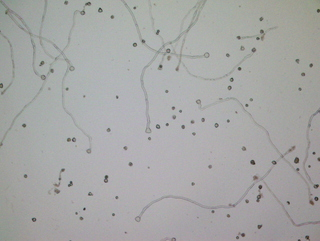germinated: (194, 94, 208, 112), (63, 58, 77, 73), (142, 119, 153, 135), (195, 50, 211, 61), (134, 208, 144, 223), (84, 139, 93, 155), (248, 45, 258, 59), (34, 69, 46, 80), (155, 58, 166, 70), (235, 32, 248, 42), (308, 176, 318, 189), (57, 166, 67, 178), (73, 8, 86, 17), (162, 45, 171, 56)
nongerminated: (129, 39, 140, 50), (247, 157, 258, 167), (239, 142, 249, 153), (255, 14, 266, 24), (292, 155, 303, 165), (205, 162, 216, 172), (246, 92, 256, 102), (270, 158, 280, 168), (188, 117, 198, 127), (126, 159, 136, 169), (104, 125, 114, 135), (292, 55, 303, 64), (108, 11, 119, 20), (225, 82, 235, 91), (211, 120, 221, 129), (251, 173, 260, 183), (168, 102, 177, 112), (153, 122, 162, 132), (189, 179, 198, 189), (69, 135, 79, 144), (255, 222, 265, 231), (28, 214, 38, 223), (255, 183, 265, 192), (298, 69, 307, 78), (295, 85, 304, 94), (226, 75, 235, 84), (235, 64, 244, 73), (224, 117, 233, 126), (162, 87, 171, 96), (96, 5, 105, 14), (284, 198, 293, 207), (80, 205, 89, 214), (224, 210, 233, 219), (76, 214, 85, 223), (178, 122, 188, 130), (242, 101, 251, 109), (223, 51, 232, 59), (238, 44, 246, 53), (170, 113, 179, 121), (164, 119, 172, 128), (121, 143, 129, 152), (19, 121, 28, 129), (21, 172, 30, 180), (86, 190, 95, 198), (242, 197, 251, 205), (312, 194, 320, 203), (130, 3, 139, 11), (38, 58, 46, 67), (72, 209, 81, 217), (176, 107, 183, 117), (307, 61, 315, 69), (199, 116, 207, 124), (190, 129, 198, 137), (239, 230, 247, 238), (48, 66, 56, 74), (254, 32, 261, 41), (101, 171, 110, 178), (62, 0, 72, 6), (258, 27, 266, 34), (109, 211, 117, 218), (209, 207, 217, 214), (294, 166, 302, 173), (65, 135, 71, 144), (146, 134, 153, 141), (113, 194, 120, 201), (63, 85, 70, 92), (311, 149, 318, 156), (305, 162, 312, 169), (140, 38, 148, 44), (255, 193, 263, 199), (102, 178, 109, 184)
